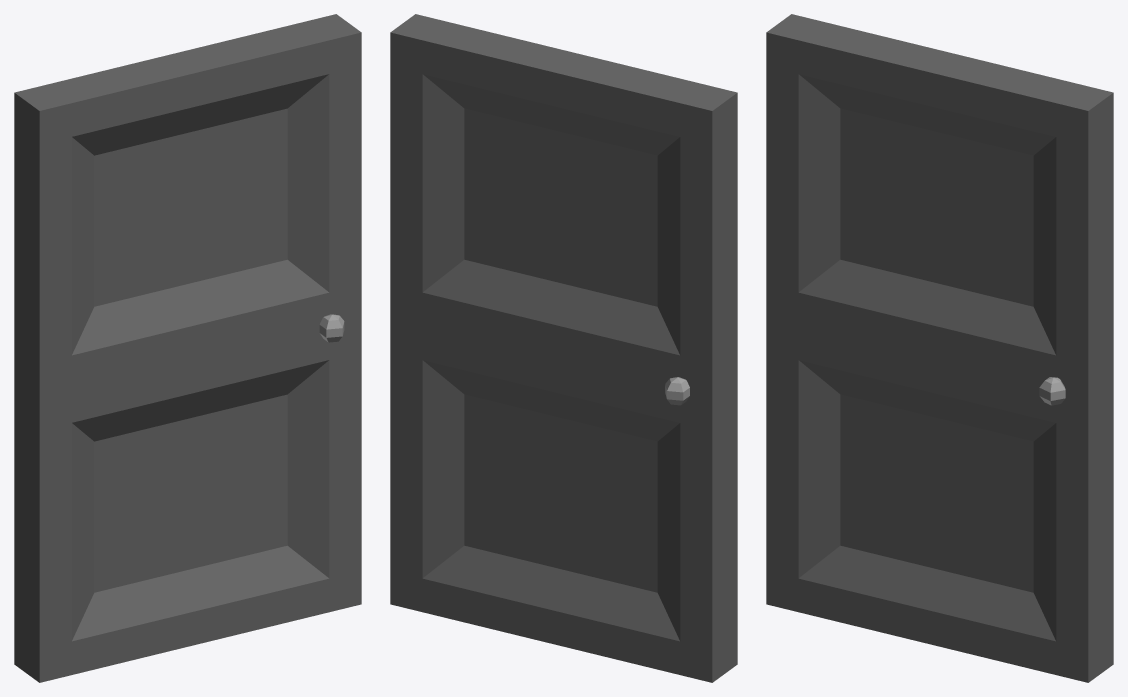
File: Door.fbx
The picture shows the model from 3 angles, left to right: view 1: azimuth 30°, elevation 25°; view 2: azimuth 150°, elevation 25°; view 3: azimuth 330°, elevation 25°; orthographic projection.
Parts seen in each view (by area): view 1: Door; view 2: Door; view 3: Door.
Boxes of the visible parts, box(x1,y1,x2,y2) form: Door: box(14, 14, 361, 682); Door: box(390, 14, 737, 682); Door: box(766, 14, 1113, 682).
Bounding box in the file's own units: 100 × 170 × 23.77.
